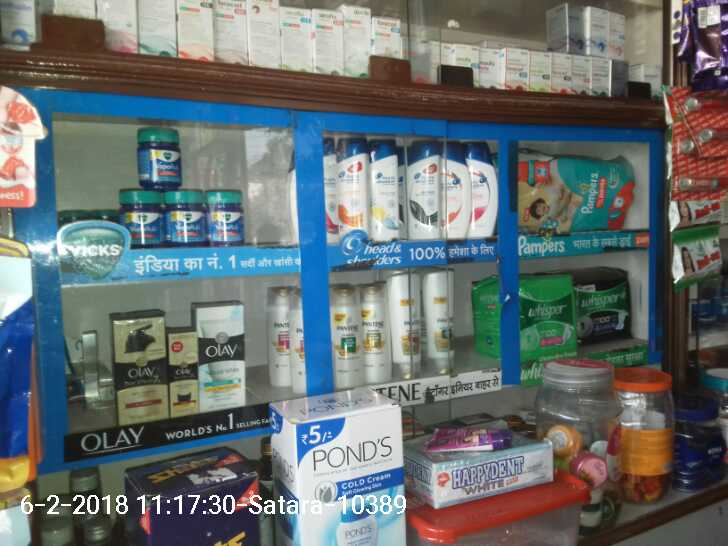vicks: (122, 125, 248, 246)
